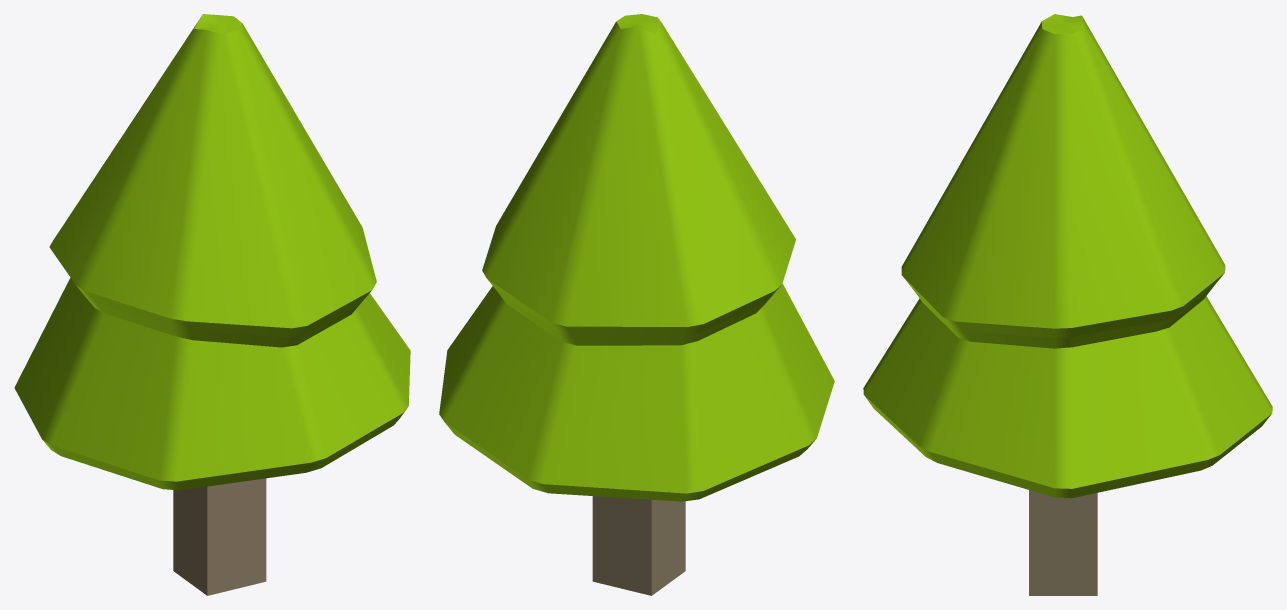
The model's file is pine_skewed_7_bevel.fbx.
The picture shows the model from 3 angles, left to right: view 1: azimuth 30°, elevation 25°; view 2: azimuth 150°, elevation 25°; view 3: azimuth 270°, elevation 25°; orthographic projection.
Parts seen in each view (by area): view 1: pine_skewed_7_bevel; view 2: pine_skewed_7_bevel; view 3: pine_skewed_7_bevel.
Boxes of the visible parts, x1,y1,x2,y2 form: pine_skewed_7_bevel: (14, 14, 410, 595); pine_skewed_7_bevel: (439, 14, 834, 595); pine_skewed_7_bevel: (863, 14, 1272, 595).
Bounding box in the file's own units: 74.06 × 109 × 72.2.
